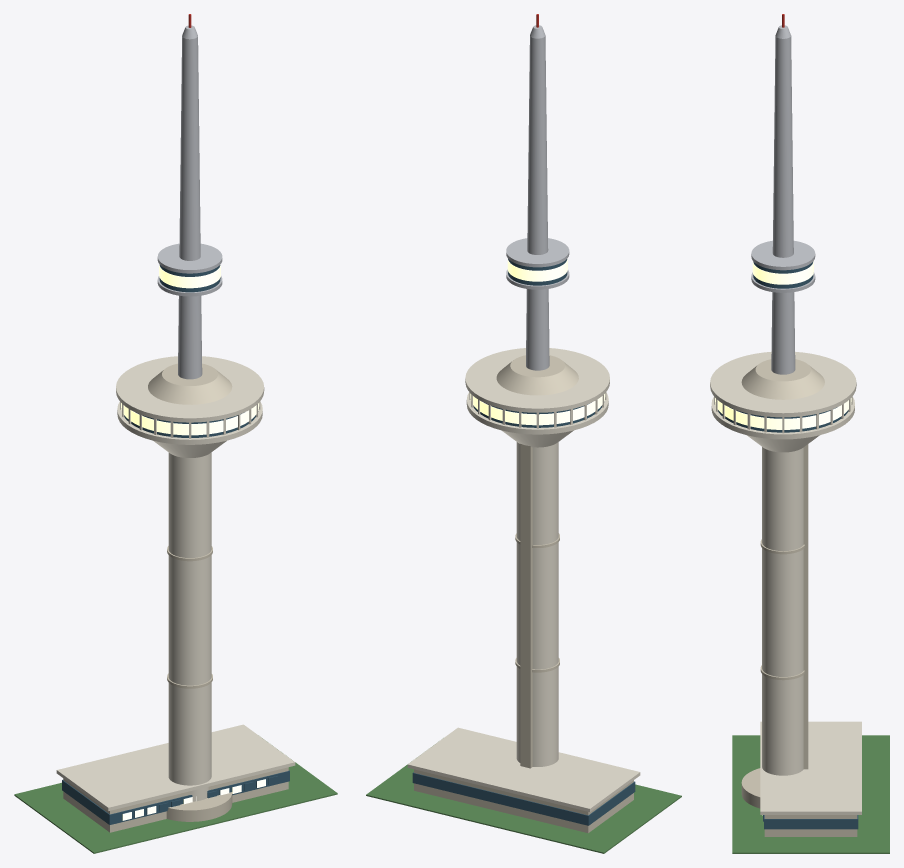
Rendered from euromast.glb.
3 views of the same model, side by side, from view 1: azimuth 30°, elevation 25°; view 2: azimuth 150°, elevation 25°; view 3: azimuth 270°, elevation 25° (orthographic). The views are drawn at different scales.
Visible parts, largest first — view 1: schacht, paviljoen-dak, gras, spacetower, nestdak, nestkap, paviljoen, paviljoen-glas, nestglas-licht, euroscoop-dak, voet, vloer (+2 smaller); view 2: schacht, paviljoen-dak, gras, spacetower, nestdak, liftrib, paviljoen, paviljoen-glas, nestkap, nestglas-licht, euroscoop-dak, vloer (+2 smaller); view 3: schacht, gras, paviljoen-dak, spacetower, nestdak, nestkap, liftrib, nestglas-licht, euroscoop-dak, vloer, paviljoen, paviljoen-glas (+5 smaller).
Boxes of the visible parts, left/top/right/bottom form: schacht: left=168, top=452, right=211, bottom=801; paviljoen-dak: left=56, top=724, right=295, bottom=810; gras: left=14, top=738, right=337, bottom=853; spacetower: left=178, top=36, right=202, bottom=379; nestdak: left=116, top=356, right=264, bottom=422; nestkap: left=148, top=363, right=232, bottom=404; paviljoen: left=63, top=767, right=288, bottom=832; paviljoen-glas: left=62, top=770, right=289, bottom=824; nestglas-licht: left=121, top=402, right=259, bottom=435; euroscoop-dak: left=157, top=243, right=222, bottom=273; voet: left=166, top=792, right=232, bottom=821; vloer: left=117, top=401, right=262, bottom=444; schacht: left=516, top=442, right=558, bottom=766; paviljoen-dak: left=407, top=727, right=640, bottom=811; gras: left=366, top=741, right=681, bottom=853; spacetower: left=526, top=35, right=549, bottom=370; nestdak: left=465, top=348, right=609, bottom=412; liftrib: left=520, top=443, right=532, bottom=768; paviljoen: left=414, top=769, right=633, bottom=833; paviljoen-glas: left=412, top=772, right=635, bottom=825; nestkap: left=496, top=355, right=578, bottom=395; nestglas-licht: left=470, top=393, right=605, bottom=425; euroscoop-dak: left=506, top=238, right=569, bottom=267; vloer: left=466, top=392, right=608, bottom=434; schacht: left=762, top=447, right=803, bottom=775; gras: left=732, top=735, right=889, bottom=853; paviljoen-dak: left=760, top=721, right=861, bottom=814; spacetower: left=771, top=36, right=795, bottom=374; nestdak: left=710, top=351, right=856, bottom=417; nestkap: left=741, top=359, right=824, bottom=399; liftrib: left=803, top=444, right=808, bottom=769; nestglas-licht: left=715, top=398, right=851, bottom=429; euroscoop-dak: left=751, top=240, right=815, bottom=270; vloer: left=711, top=397, right=854, bottom=439; paviljoen: left=764, top=815, right=857, bottom=836; paviljoen-glas: left=764, top=815, right=858, bottom=829.
Size of the model in its own units: 60 by 186 by 38.8.
